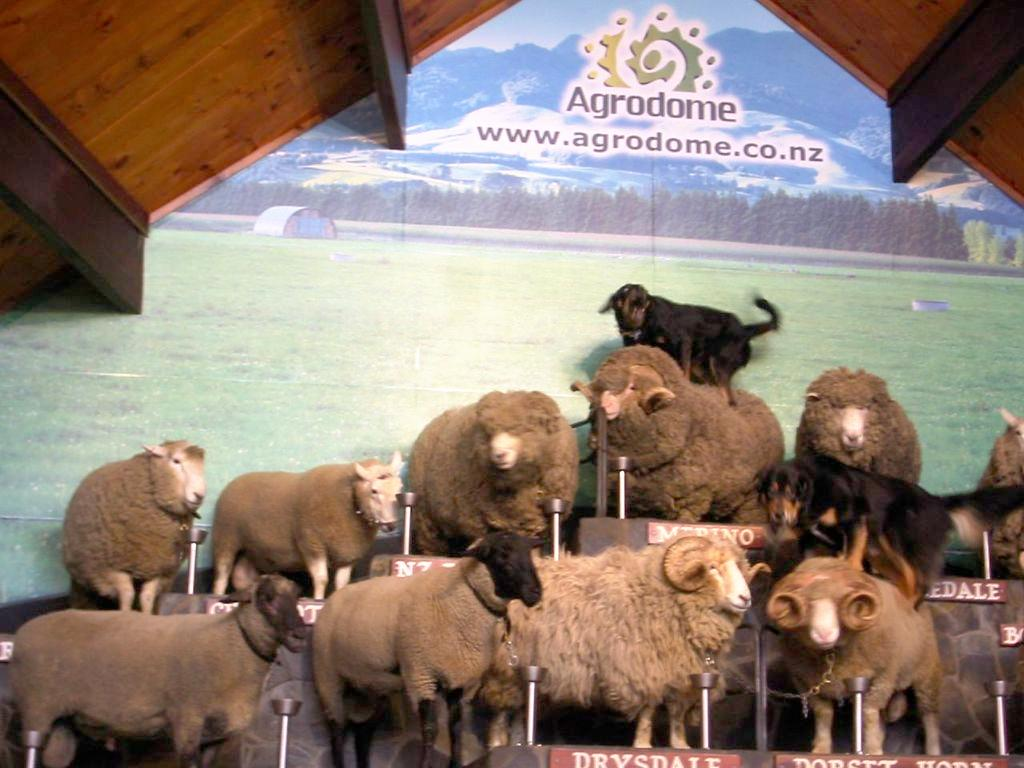Sheep: (0, 574, 307, 767), (491, 528, 756, 748), (303, 531, 545, 768), (764, 549, 947, 758), (576, 349, 784, 525), (409, 393, 576, 570), (213, 456, 410, 596), (58, 432, 209, 608), (792, 355, 925, 523)
